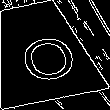O_N: (7, 22, 75, 82)
